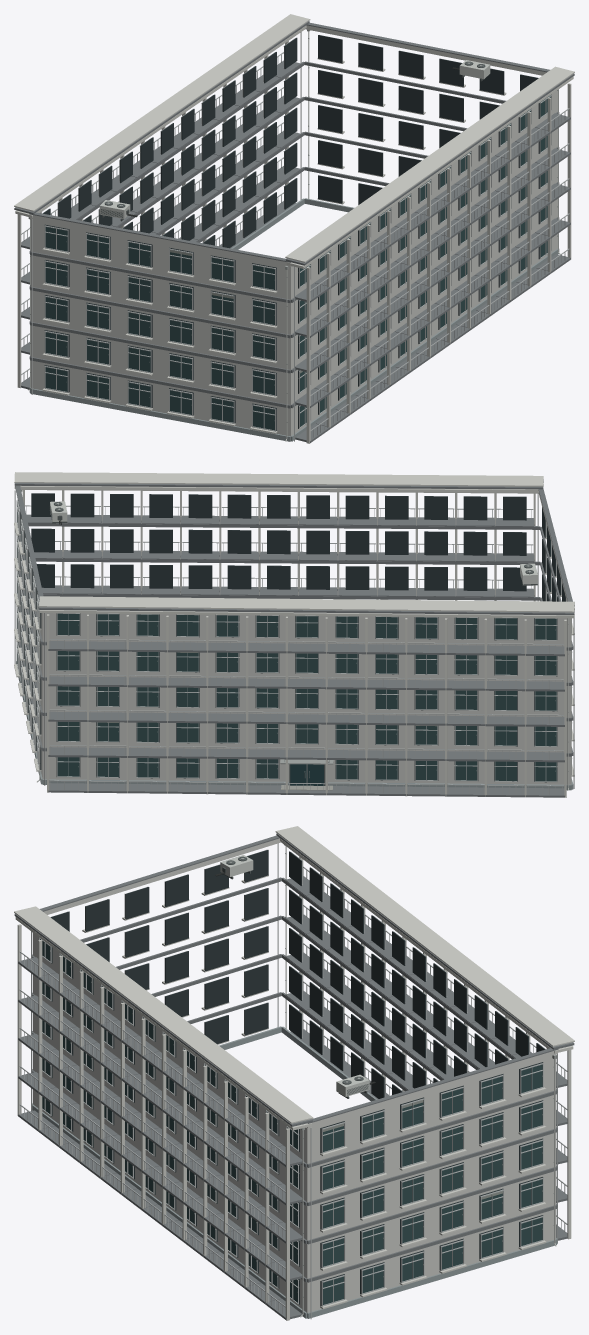
Rendered from njupt_k_dormitory_02.glb.
The picture shows the model from 3 angles, top to bottom: view 1: azimuth 30°, elevation 25°; view 2: azimuth 150°, elevation 25°; view 3: azimuth 270°, elevation 25°; orthographic projection. The views are drawn at different scales.
Parts seen in each view (by area): view 1: Windows and facade details | K组团宿舍（模型序号2）, Architecture | K组团宿舍（模型序号2）, Roof services | K组团宿舍（模型序号2）, EXTERIOR::njupt_k_dormitory_02::rainwater and roof service d; view 2: Windows and facade details | K组团宿舍（模型序号2）, Architecture | K组团宿舍（模型序号2）, Roof services | K组团宿舍（模型序号2）, EXTERIOR::njupt_k_dormitory_02::rainwater and roof service d, EXTERIOR::njupt_k_dormitory_02::inferred entry doors canopy ; view 3: Windows and facade details | K组团宿舍（模型序号2）, Architecture | K组团宿舍（模型序号2）, Roof services | K组团宿舍（模型序号2）, EXTERIOR::njupt_k_dormitory_02::rainwater and roof service d.
Part boxes in pixels (bbox=[...]): Windows and facade details | K组团宿舍（模型序号2）: bbox=[21, 32, 570, 442]; Architecture | K组团宿舍（模型序号2）: bbox=[17, 25, 571, 443]; Roof services | K组团宿舍（模型序号2）: bbox=[14, 14, 574, 268]; EXTERIOR::njupt_k_dormitory_02::rainwater and roof service d: bbox=[28, 29, 560, 441]; Windows and facade details | K组团宿舍（模型序号2）: bbox=[14, 490, 574, 797]; Architecture | K组团宿舍（模型序号2）: bbox=[16, 485, 573, 797]; Roof services | K组团宿舍（模型序号2）: bbox=[14, 472, 574, 618]; EXTERIOR::njupt_k_dormitory_02::rainwater and roof service d: bbox=[21, 490, 568, 790]; EXTERIOR::njupt_k_dormitory_02::inferred entry doors canopy : bbox=[280, 759, 333, 790]; Windows and facade details | K组团宿舍（模型序号2）: bbox=[18, 843, 567, 1319]; Architecture | K组团宿舍（模型序号2）: bbox=[17, 838, 571, 1320]; Roof services | K组团宿舍（模型序号2）: bbox=[14, 826, 574, 1130]; EXTERIOR::njupt_k_dormitory_02::rainwater and roof service d: bbox=[215, 845, 556, 1317].
Size of the model in its own units: 60.23 by 19.48 by 48.13.
